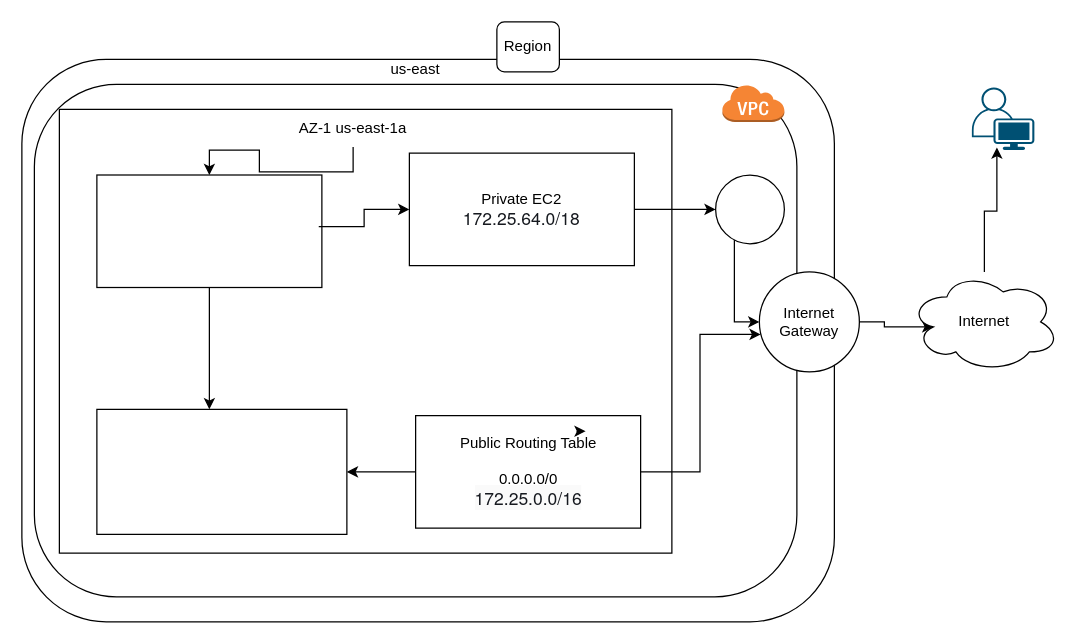
This 1081x644 diagram has some shape labels left out. The shapes that lost their labels are listed below. From the top down, each one's box as (x1, y1, x2, y2) in pixels, then its label:
(714, 174, 784, 244): NAT Gateway
(96, 174, 322, 288): Private Routing Table 172.25.0.0/16
(96, 408, 347, 534): Public EC2 172.25.0.0/18
